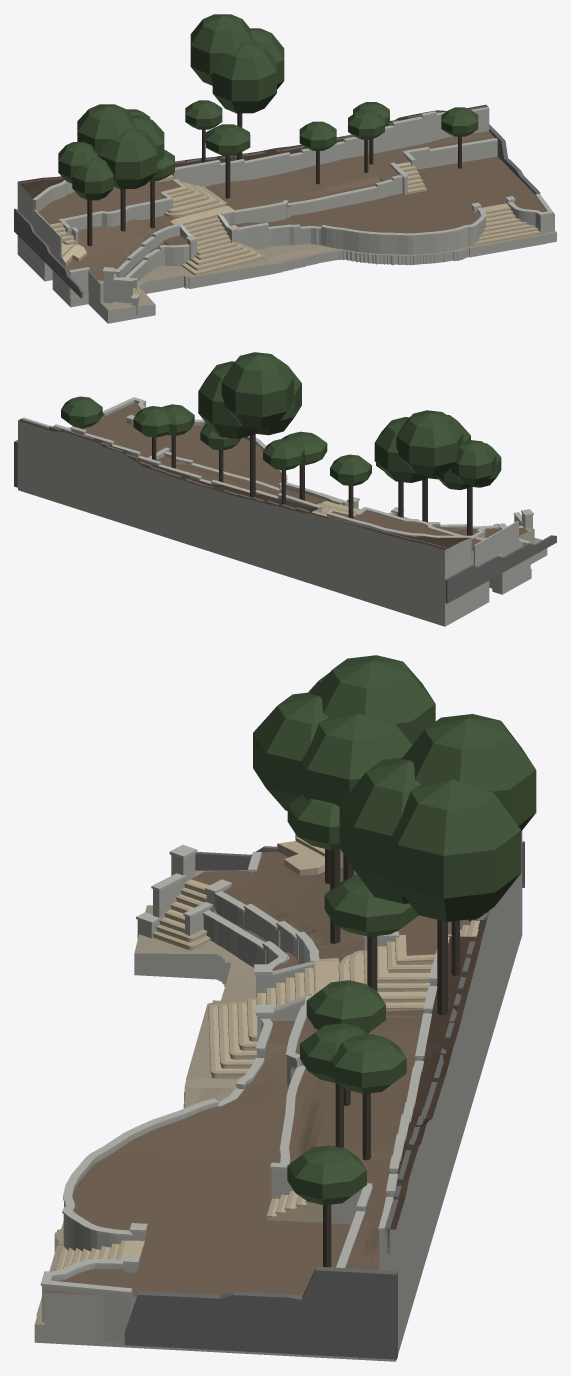
File: reconstruction-710e8b71d6c1.glb
The picture shows the model from 3 angles, top to bottom: view 1: azimuth 30°, elevation 25°; view 2: azimuth 150°, elevation 25°; view 3: azimuth 270°, elevation 25°; orthographic projection. The views are drawn at different scales.
Parts seen in each view (by area): view 1: ground-terraces, planting-tree-03, wall-wa, planting-tree-01, wall-we, wall-wb, planting-tree-07, flight-m1, nosing-m1, planting-tree-04, coping-wa, coping-wb (+21 smaller); view 2: ground-terraces, planting-tree-03, planting-tree-01, planting-tree-07, slot-filler-west, planting-tree-06, planting-tree-05, cheek-w2-west, coping-we, planting-tree-10, planting-tree-11, planting-tree-04 (+7 smaller); view 3: ground-terraces, planting-tree-03, slot-filler-east, planting-tree-01, coping-wa, planting-tree-11, planting-tree-10, planting-tree-04, wall-wa, coping-wb, planting-tree-08, flight-m1 (+14 smaller).
Part boxes in pixels (bbox=[...]): ground-terraces: bbox=[17, 105, 556, 323]; planting-tree-03: bbox=[190, 14, 284, 159]; wall-wa: bbox=[69, 196, 552, 297]; planting-tree-01: bbox=[77, 104, 164, 231]; wall-we: bbox=[174, 109, 489, 186]; wall-wb: bbox=[120, 141, 497, 277]; planting-tree-07: bbox=[58, 142, 113, 246]; flight-m1: bbox=[171, 210, 263, 275]; nosing-m1: bbox=[181, 214, 263, 274]; planting-tree-04: bbox=[205, 124, 250, 198]; coping-wa: bbox=[69, 194, 553, 277]; coping-wb: bbox=[118, 138, 497, 271]; ground-terraces: bbox=[18, 403, 547, 626]; planting-tree-03: bbox=[198, 352, 301, 497]; planting-tree-01: bbox=[374, 410, 470, 522]; planting-tree-07: bbox=[436, 440, 501, 535]; slot-filler-west: bbox=[445, 535, 556, 603]; planting-tree-06: bbox=[330, 454, 371, 518]; planting-tree-05: bbox=[263, 439, 304, 504]; cheek-w2-west: bbox=[473, 521, 518, 566]; coping-we: bbox=[22, 417, 322, 507]; planting-tree-10: bbox=[133, 406, 169, 460]; planting-tree-11: bbox=[61, 396, 102, 429]; planting-tree-04: bbox=[282, 431, 327, 500]; ground-terraces: bbox=[34, 830, 522, 1361]; planting-tree-03: bbox=[339, 714, 536, 1014]; slot-filler-east: bbox=[124, 1266, 397, 1359]; planting-tree-01: bbox=[253, 655, 435, 880]; coping-wa: bbox=[40, 851, 289, 1294]; planting-tree-11: bbox=[287, 1145, 366, 1267]; planting-tree-10: bbox=[331, 1033, 406, 1160]; planting-tree-04: bbox=[324, 874, 418, 991]; wall-wa: bbox=[42, 871, 286, 1343]; coping-wb: bbox=[212, 891, 372, 1267]; planting-tree-08: bbox=[306, 980, 385, 1105]; flight-m1: bbox=[211, 958, 335, 1078].
Bounding box in the file's own units: 31.71 × 13.26 × 14.91.
